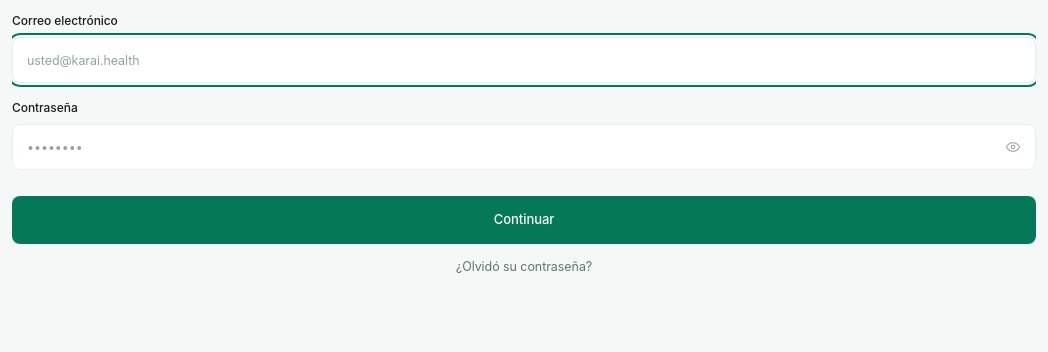
it: LoginForm › translates our own error messages but passes the server’s through
The width and height of the screenshot is (1048, 352).
Type "ops@karai.health" into the field labelled "Correo electrónico" at (524, 60), box [12, 37, 1036, 83]
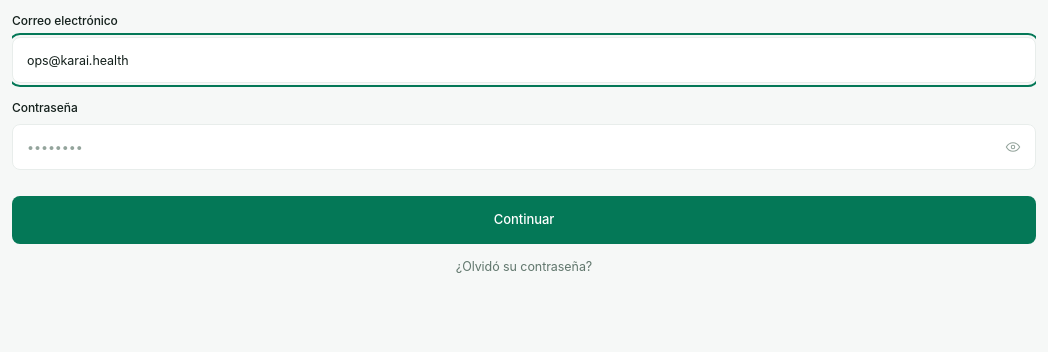
Type "Secreto123!" into the password field labelled "Contraseña" at (524, 147), box [12, 124, 1036, 170]
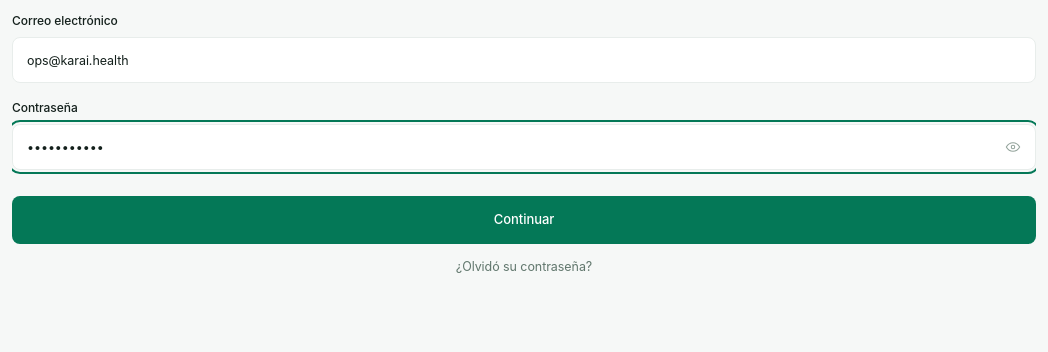
Click the button "Continuar" at (524, 220), box [12, 196, 1036, 244]
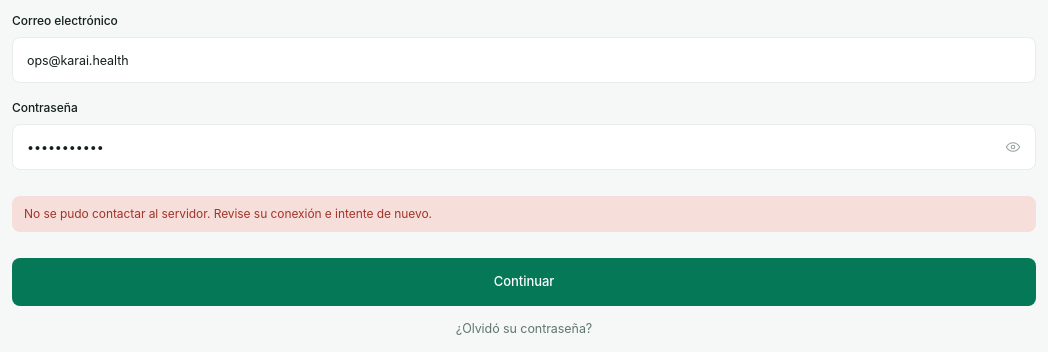
Expected: the message shows "No se pudo contactar al servidor", [24, 206, 432, 221]
